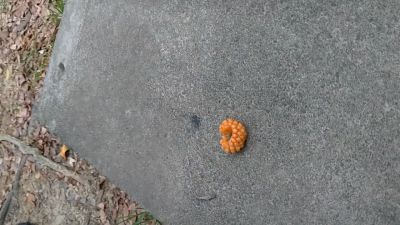eggs: (218, 117, 249, 155)
